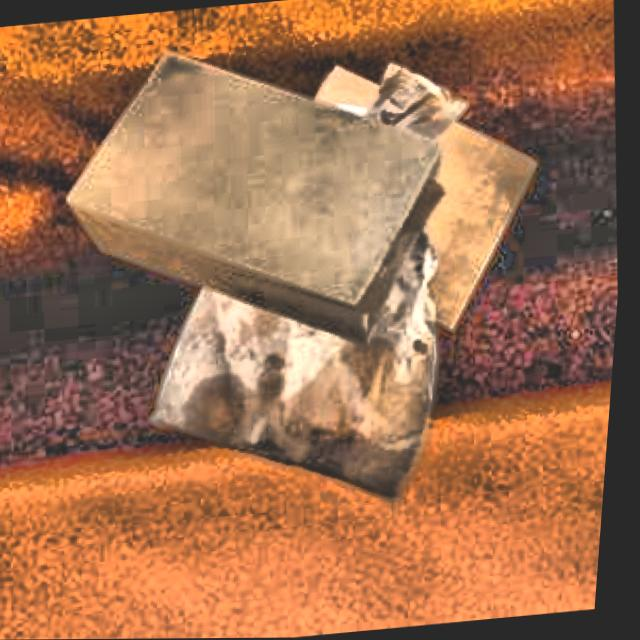Paper-bag: (123, 53, 504, 520), (39, 28, 473, 362), (254, 39, 573, 357)
